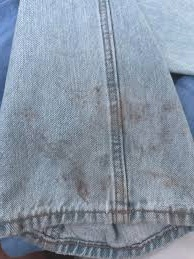earth: (106, 98, 149, 127), (74, 174, 113, 197), (164, 176, 177, 188)
